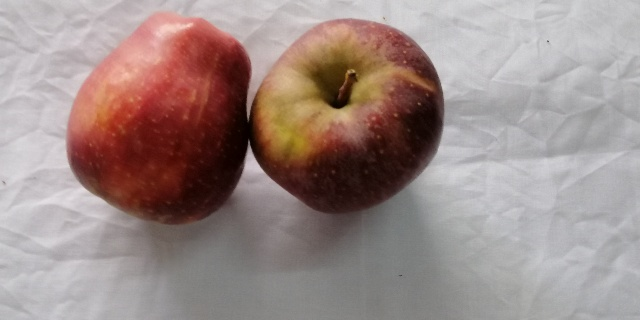apple_kashmir: (65, 16, 255, 227), (245, 19, 445, 216)
